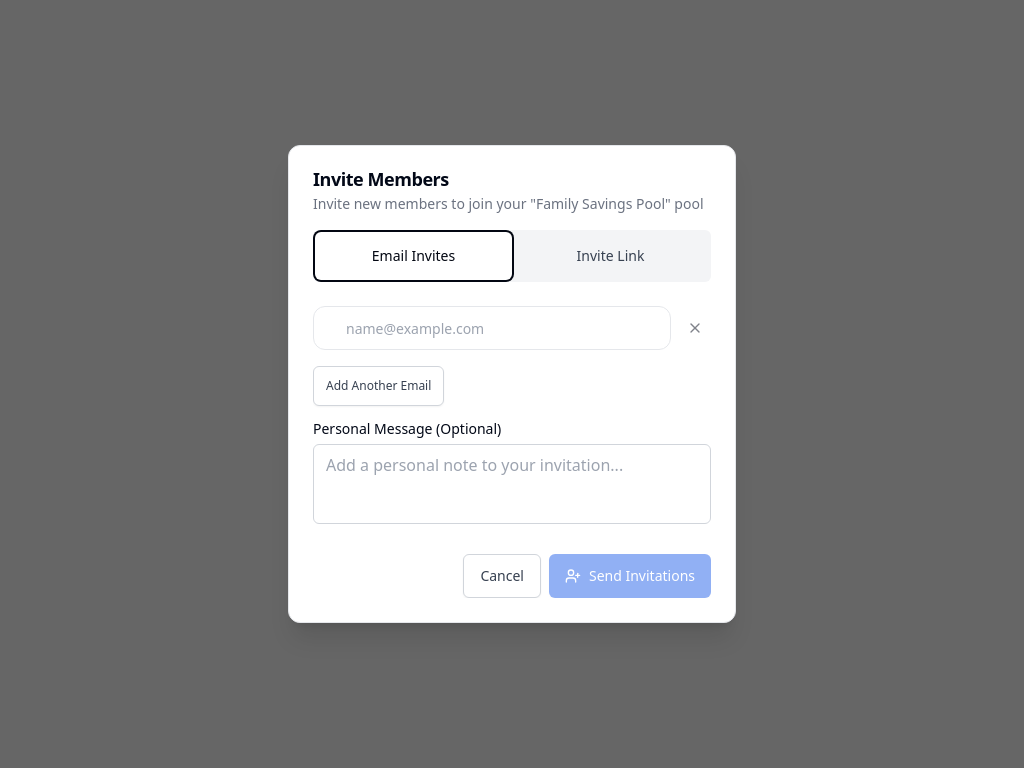
Scenario: InviteMembersDialog Component › Email Invites Tab › adds new email field when Add Another Email is clicked
Click the button "Add Another Email".
click(379, 386)  # box [313,366,444,406]
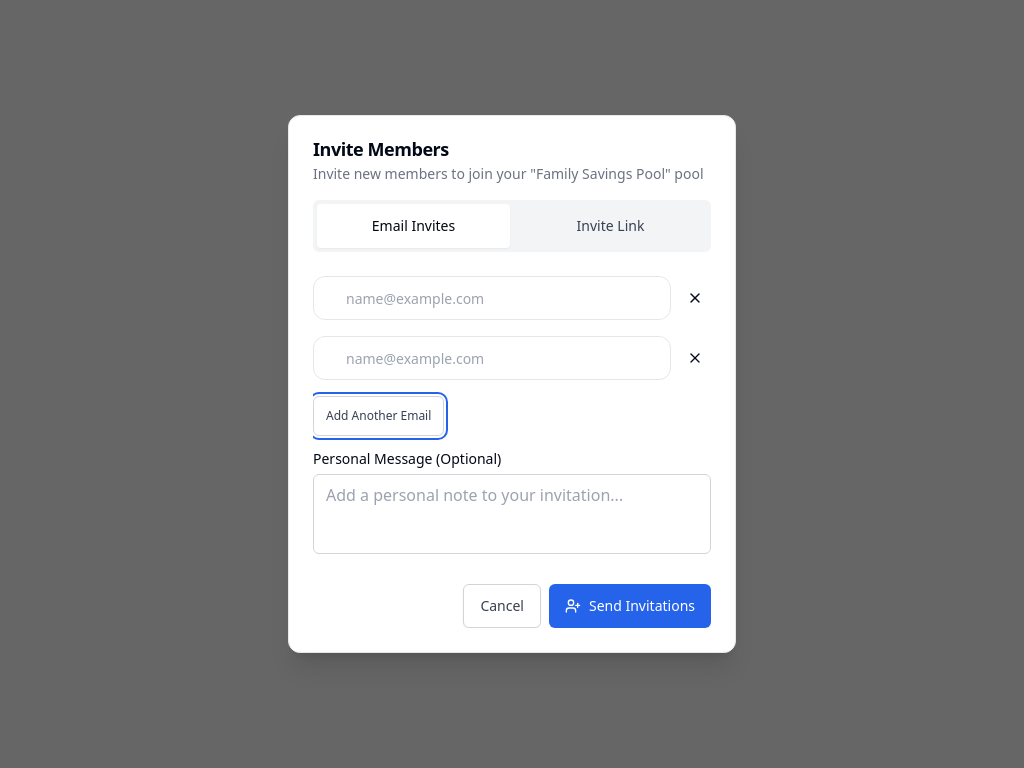
Result: the number of fields with placeholder "name@example.com" is 2 at [313,276,671,320]; [313,336,671,380]
